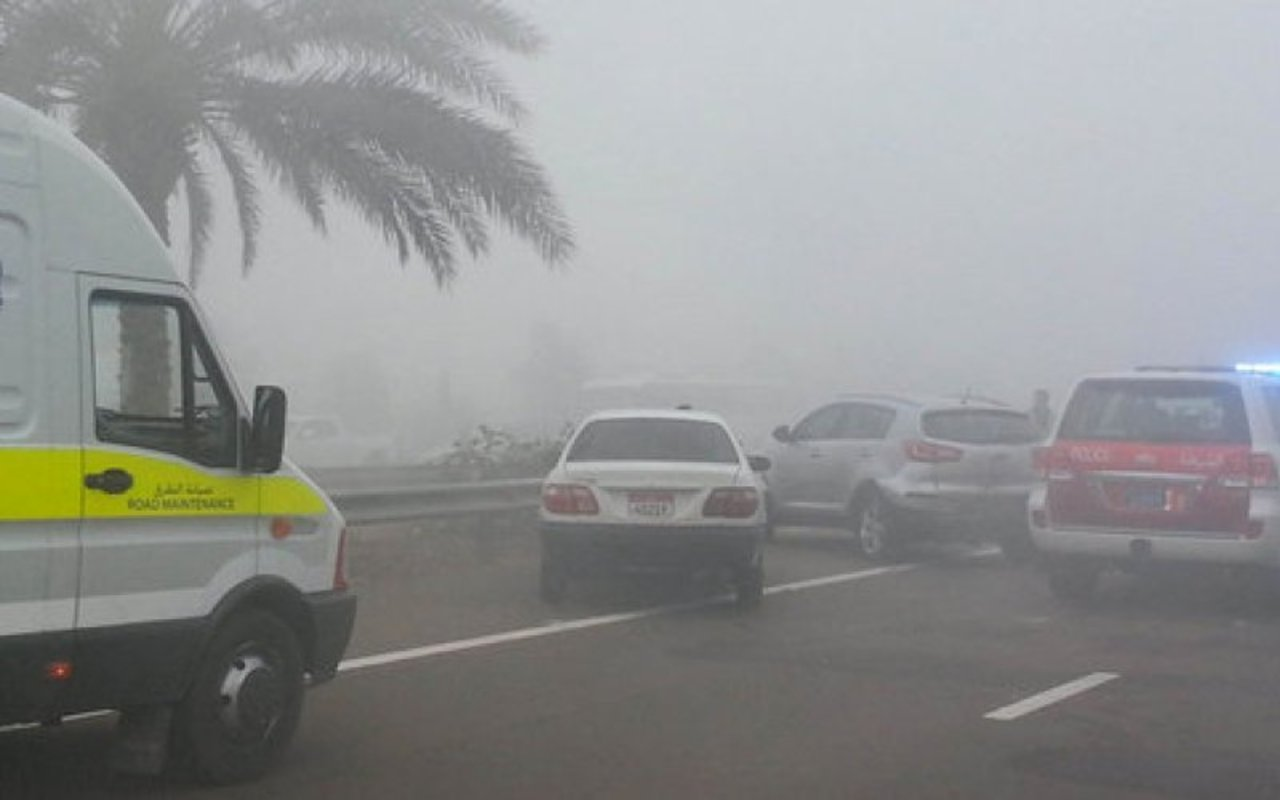car: (4, 73, 355, 794), (1019, 369, 1279, 597), (535, 405, 773, 611), (778, 395, 1035, 558)
